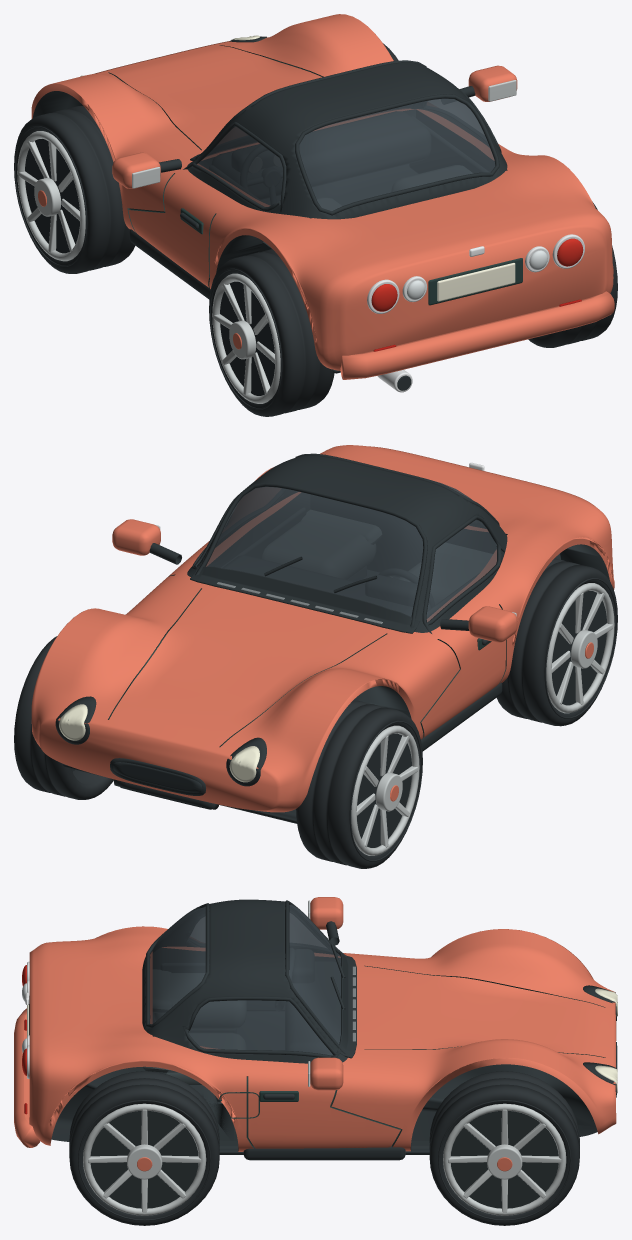
The model's file is chibi.fbx.
The picture shows the model from 3 angles, top to bottom: view 1: azimuth 30°, elevation 25°; view 2: azimuth 150°, elevation 25°; view 3: azimuth 270°, elevation 25°; orthographic projection. The views are drawn at different scales.
Visible parts, largest first — view 1: Body, Wheel_FL_Mesh, Wheel_RL_Mesh, Wheel_RR_Mesh; view 2: Body, Wheel_FL_Mesh, Wheel_RL_Mesh, Wheel_FR_Mesh; view 3: Body, Wheel_RR_Mesh, Wheel_FR_Mesh.
Part boxes in pixels (bbox=[...]): Body: bbox=[31, 14, 614, 392]; Wheel_FL_Mesh: bbox=[14, 106, 135, 273]; Wheel_RL_Mesh: bbox=[209, 249, 334, 416]; Wheel_RR_Mesh: bbox=[528, 201, 617, 347]; Body: bbox=[31, 445, 614, 823]; Wheel_FL_Mesh: bbox=[296, 700, 422, 868]; Wheel_RL_Mesh: bbox=[496, 558, 617, 726]; Wheel_FR_Mesh: bbox=[14, 636, 114, 799]; Body: bbox=[14, 897, 617, 1160]; Wheel_RR_Mesh: bbox=[69, 1071, 219, 1225]; Wheel_FR_Mesh: bbox=[429, 1071, 579, 1225].
Size of the model in its own units: 212 by 125 by 305.
